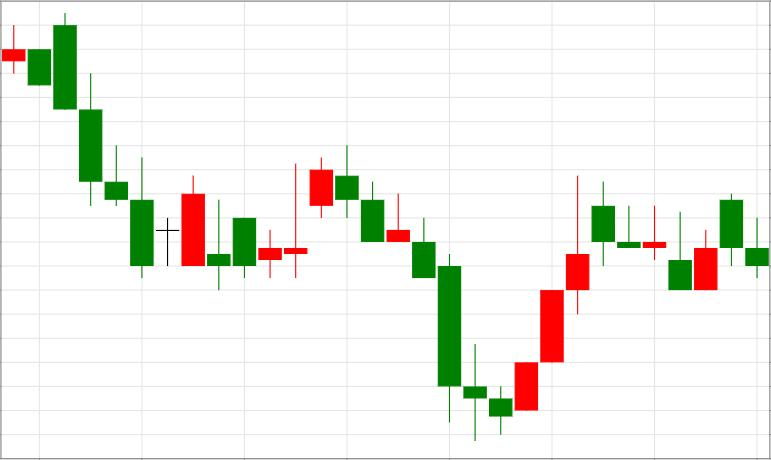three_white_soldiers_rise: (336, 146, 589, 441)
